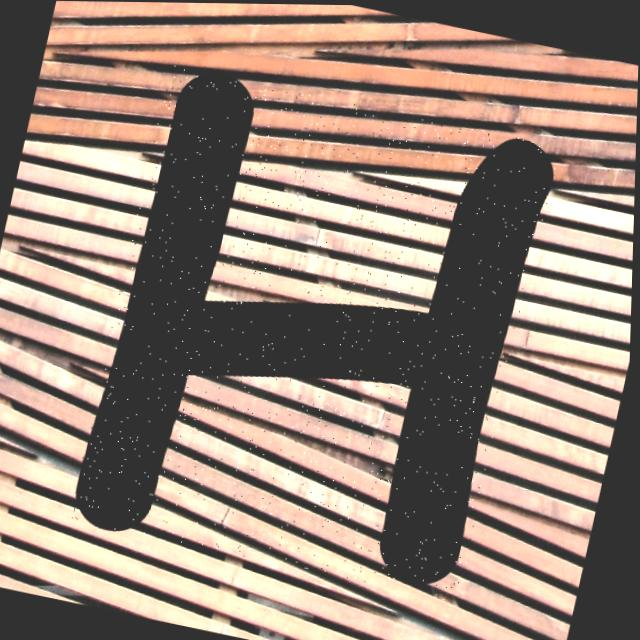H: (79, 73, 554, 583)
